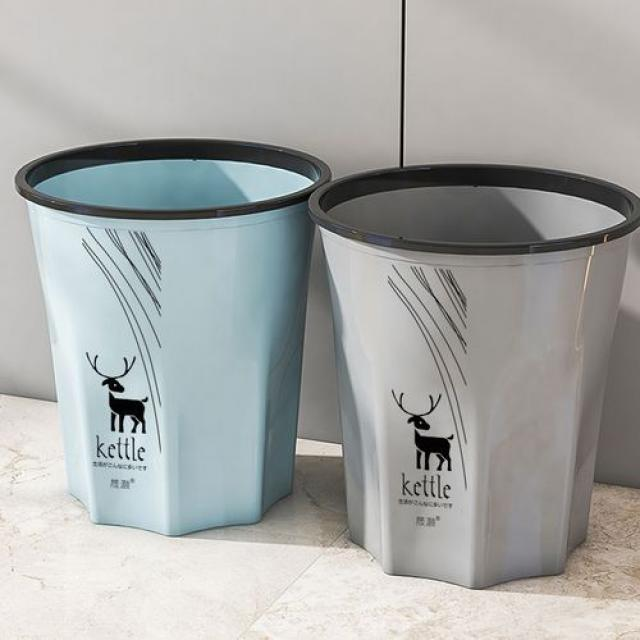Dustbin: (305, 158, 640, 594), (11, 133, 336, 542)
